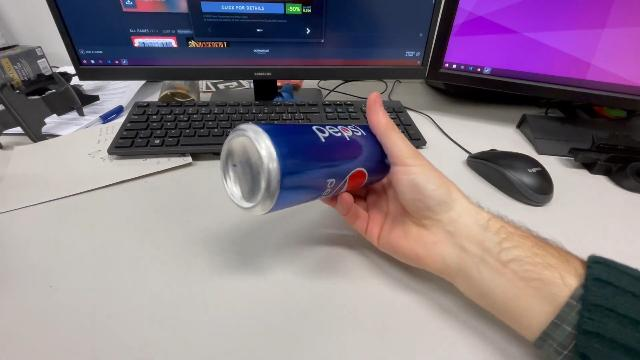Pepsi: (218, 120, 394, 219)
